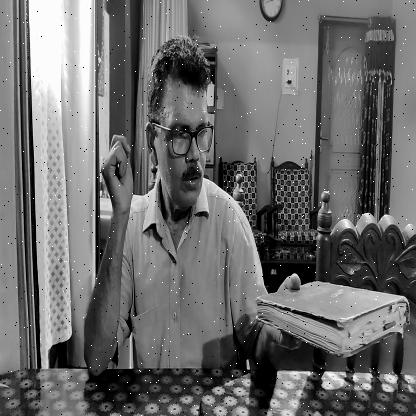Distracted: (152, 61, 210, 207)
